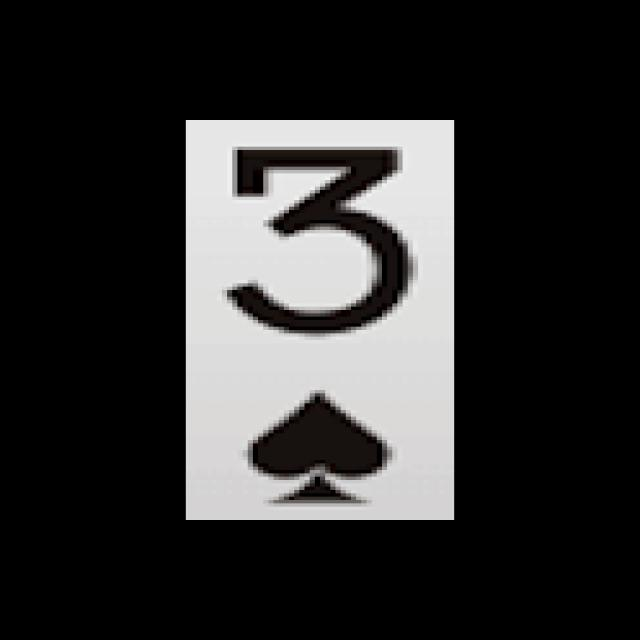3S: (208, 132, 430, 515)
